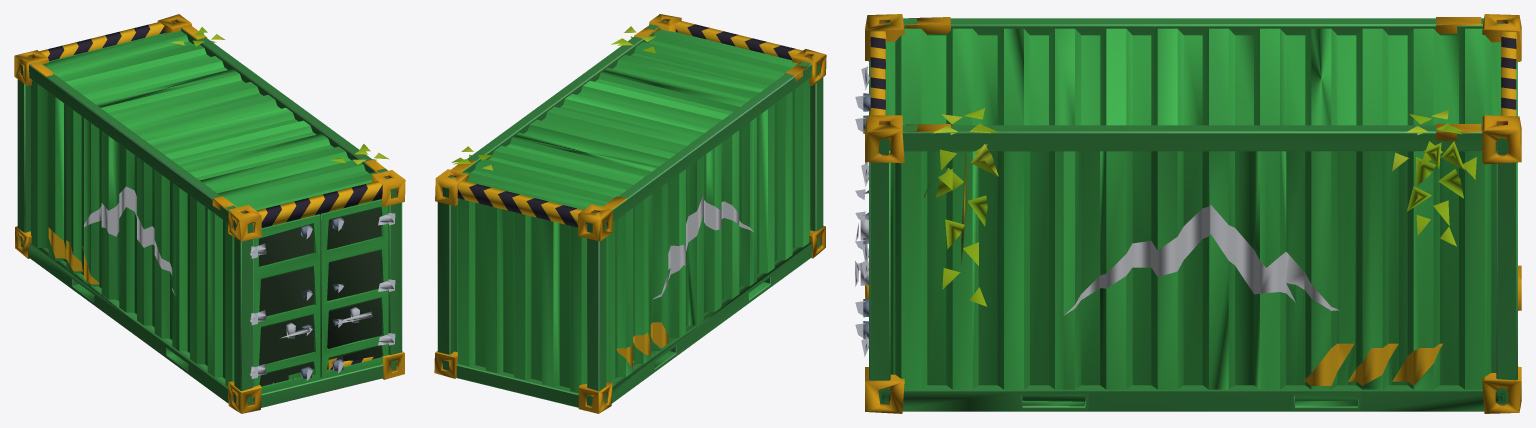
The model's file is container_green.glb.
3 renders of one model, left to right at view 1: azimuth 30°, elevation 25°; view 2: azimuth 150°, elevation 25°; view 3: azimuth 270°, elevation 25°, orthographic. The views are drawn at different scales.
Visible parts, largest first — view 1: shipping_container; view 2: shipping_container; view 3: shipping_container.
Boxes of the visible parts, x1,y1,x2,y2 form: shipping_container: [14, 14, 405, 413]; shipping_container: [434, 14, 826, 413]; shipping_container: [855, 14, 1521, 413].
Size of what is drawn, in the model's own units: 0.9193 by 0.9934 by 2.09.
